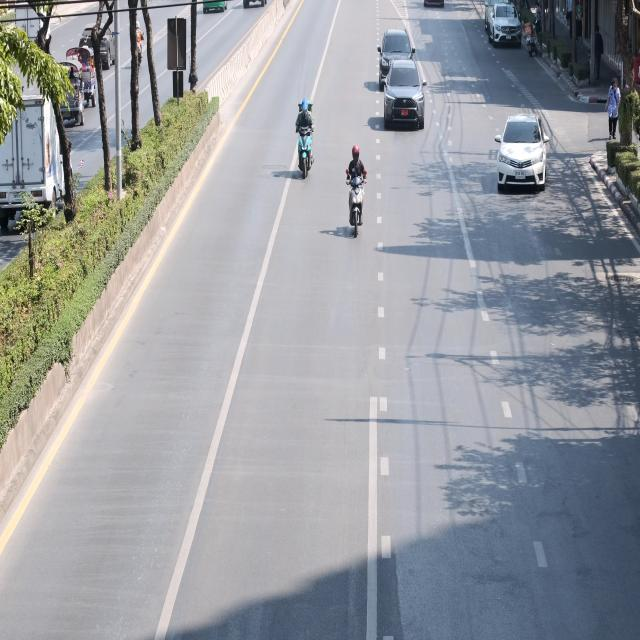cars: (0, 75, 76, 273), (492, 107, 552, 207), (379, 58, 434, 134), (76, 18, 123, 79), (374, 32, 419, 92), (5, 3, 58, 53), (484, 0, 524, 56), (480, 0, 509, 25)
motorcycle: (341, 134, 377, 255), (287, 91, 325, 188), (130, 18, 153, 75), (522, 8, 544, 63)
tricycle: (44, 52, 92, 136), (56, 28, 100, 108)
